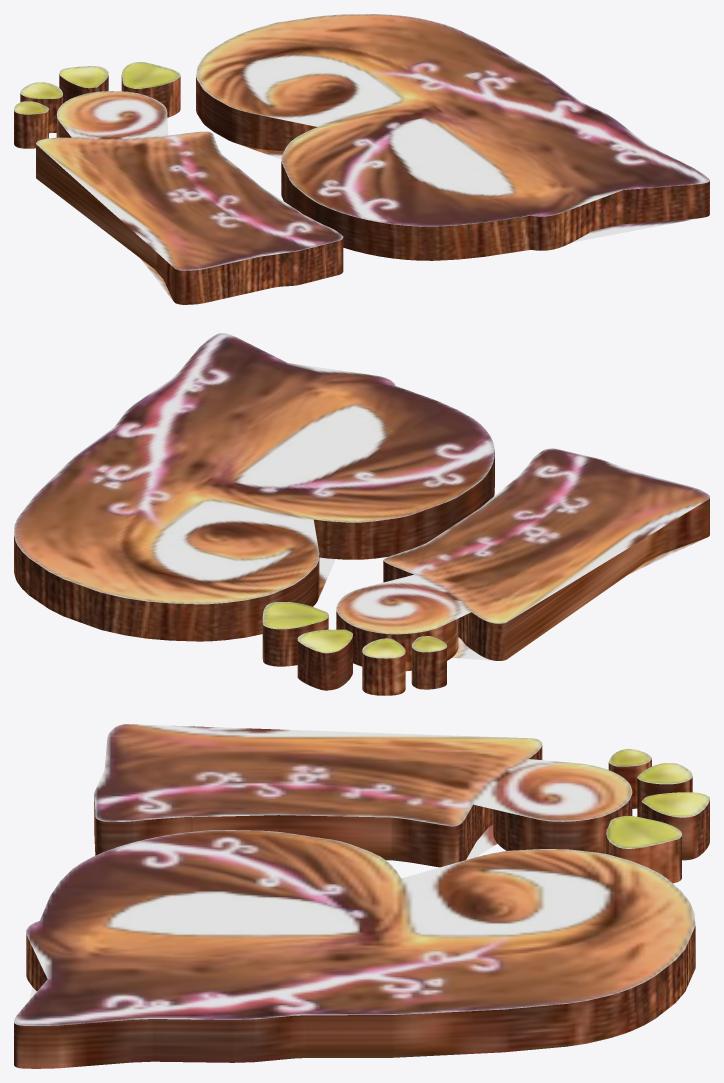
File: FICUSIA (IA).fbx
3 views of the same model, one above another, from view 1: azimuth 30°, elevation 25°; view 2: azimuth 150°, elevation 25°; view 3: azimuth 270°, elevation 25° (orthographic). The views are drawn at different scales.
Parts seen in each view (by area): view 1: Trace.008, Trace.009; view 2: Trace.008, Trace.009; view 3: Trace.008, Trace.009.
Boxes of the visible parts, <box> form: Trace.008: <box>196,14,709,260</box>; Trace.009: <box>14,62,343,304</box>; Trace.008: <box>14,333,494,641</box>; Trace.009: <box>262,448,709,695</box>; Trace.008: <box>14,830,695,1068</box>; Trace.009: <box>94,724,709,883</box>.
Size of the model in its own units: 81.07 by 5.35 by 78.94.
